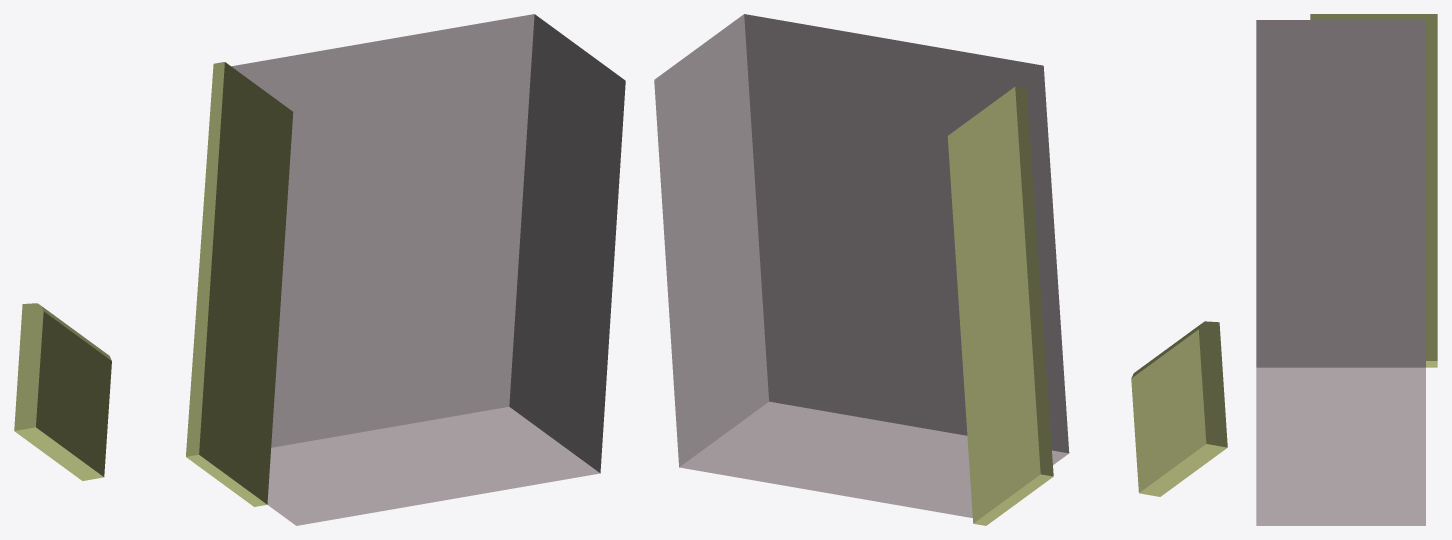
The picture shows the model from 3 angles, left to right: view 1: azimuth 30°, elevation 25°; view 2: azimuth 150°, elevation 25°; view 3: azimuth 270°, elevation 25°; orthographic projection. The views are drawn at different scales.
Visible parts, largest first — view 1: 0_2_1_3_0_3_1_0_3; view 2: 0_2_1_3_0_3_1_0_3; view 3: 0_2_1_3_0_3_1_0_3.
Part boxes in pixels (bbox=[...]): 0_2_1_3_0_3_1_0_3: bbox=[14, 14, 625, 525]; 0_2_1_3_0_3_1_0_3: bbox=[654, 14, 1227, 525]; 0_2_1_3_0_3_1_0_3: bbox=[1256, 14, 1437, 525].
Bounding box in the file's own units: 39.25 × 29.7 × 12.81.
